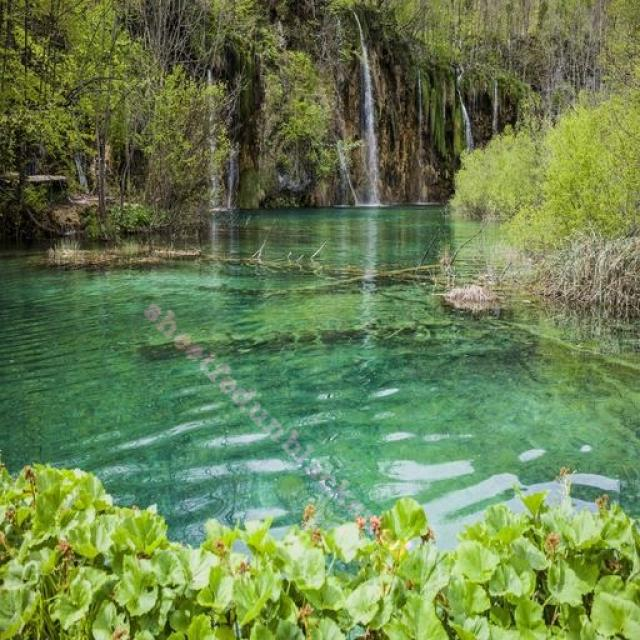watermark: (134, 290, 420, 566)
